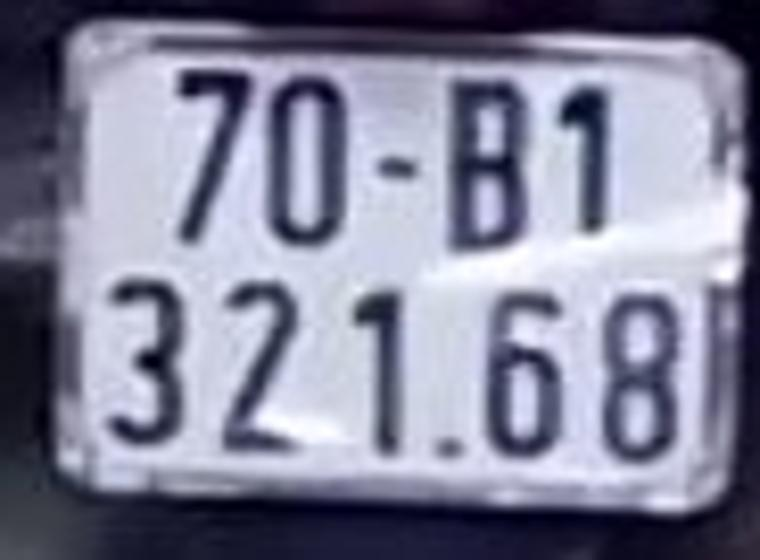-: (372, 151, 420, 183)
.: (431, 426, 470, 463)
0: (264, 67, 353, 250)
1: (554, 77, 625, 245), (351, 281, 414, 465)
2: (218, 274, 312, 462)
3: (99, 269, 191, 451)
6: (479, 272, 570, 461)
7: (168, 65, 254, 247)
8: (598, 274, 686, 472)
B: (444, 77, 531, 256)
